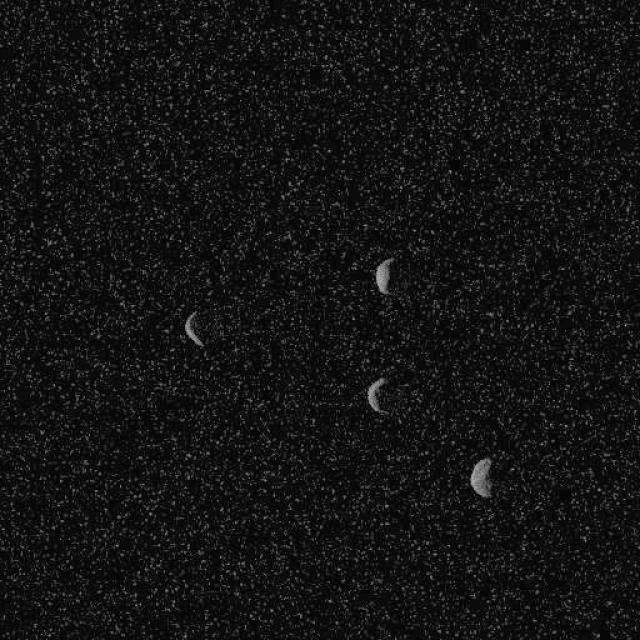D2: (468, 456, 494, 499), (365, 376, 390, 414), (184, 308, 205, 348), (374, 256, 394, 295)
